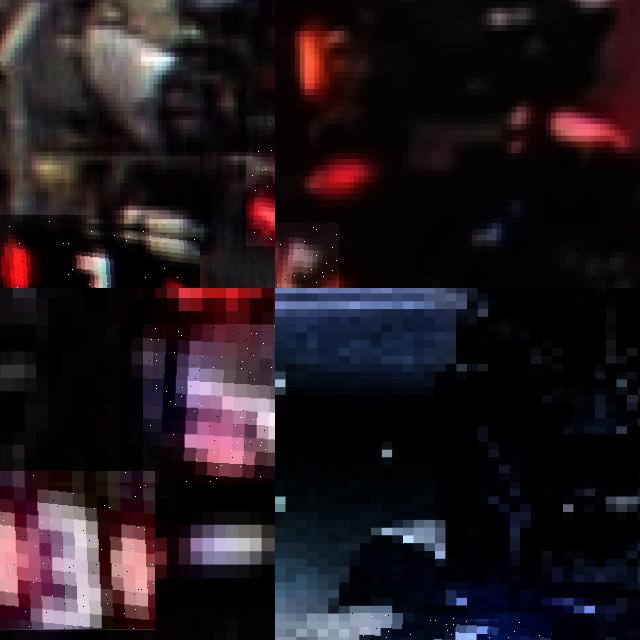B1: (349, 613, 552, 640)
R1: (0, 214, 199, 288), (246, 115, 275, 246)
R3: (0, 471, 154, 631), (143, 324, 275, 484)
R5: (275, 223, 339, 288)
